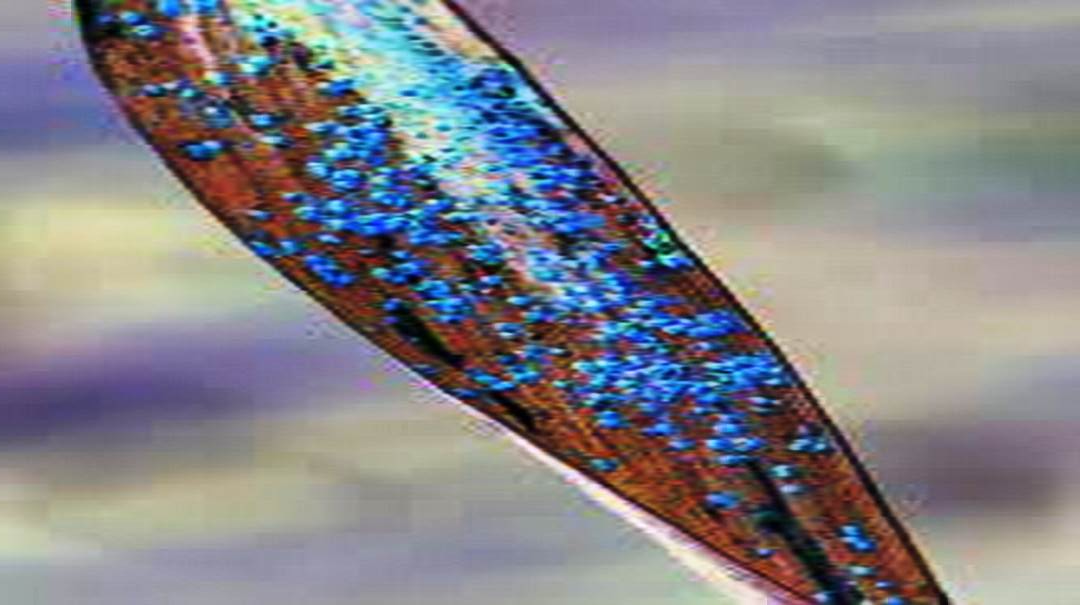Leaf Rust: (222, 64, 902, 587)
